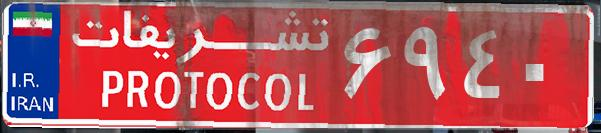0: (520, 20, 580, 115)
4: (460, 20, 520, 115)
6: (340, 20, 400, 115)
9: (400, 20, 460, 115)
تشریفات: (60, 8, 340, 125)
